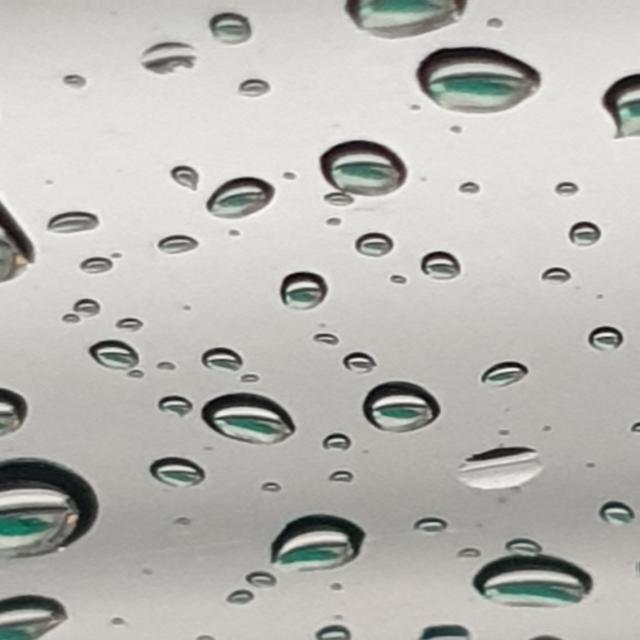raindrop: (0, 450, 107, 567), (462, 544, 604, 624), (420, 38, 556, 114), (191, 379, 313, 456), (423, 436, 553, 498), (254, 508, 374, 569), (332, 0, 474, 44), (326, 136, 422, 192), (257, 264, 339, 326), (192, 172, 282, 226), (0, 585, 83, 640), (0, 354, 51, 443), (205, 76, 293, 127), (366, 380, 440, 437), (131, 38, 208, 87), (599, 64, 640, 156), (122, 452, 218, 490), (151, 150, 212, 206), (0, 202, 35, 296), (194, 12, 265, 53), (105, 289, 163, 339), (294, 426, 366, 466), (184, 338, 256, 377), (331, 225, 406, 262), (491, 528, 559, 568), (52, 197, 118, 237), (142, 389, 200, 432), (361, 258, 424, 296), (332, 341, 384, 386), (484, 346, 524, 404), (553, 220, 625, 252), (225, 561, 309, 588), (591, 498, 640, 542), (50, 256, 121, 284), (300, 324, 360, 357), (412, 508, 464, 544), (89, 336, 138, 374), (583, 316, 627, 358), (138, 233, 190, 268), (518, 262, 582, 290), (309, 188, 375, 215), (193, 586, 256, 614), (422, 250, 464, 290), (550, 176, 602, 207), (300, 620, 376, 640), (605, 414, 640, 456), (242, 480, 292, 508), (444, 180, 488, 206), (318, 468, 369, 488), (70, 286, 97, 315)
